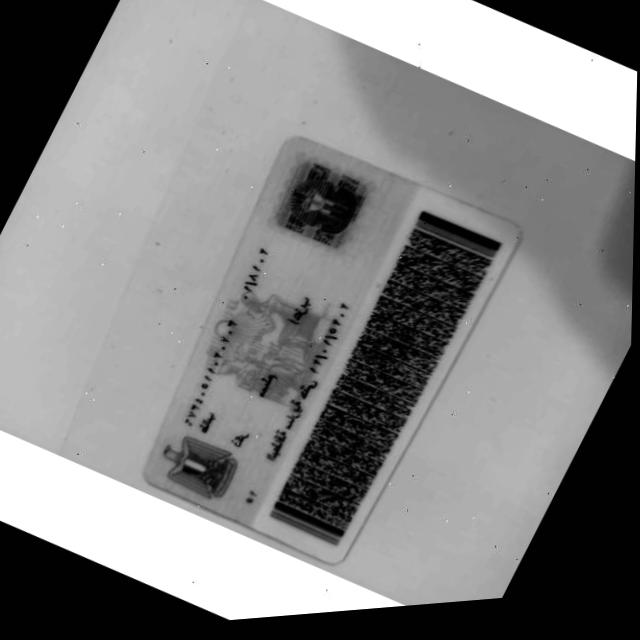back: (144, 136, 512, 559)
